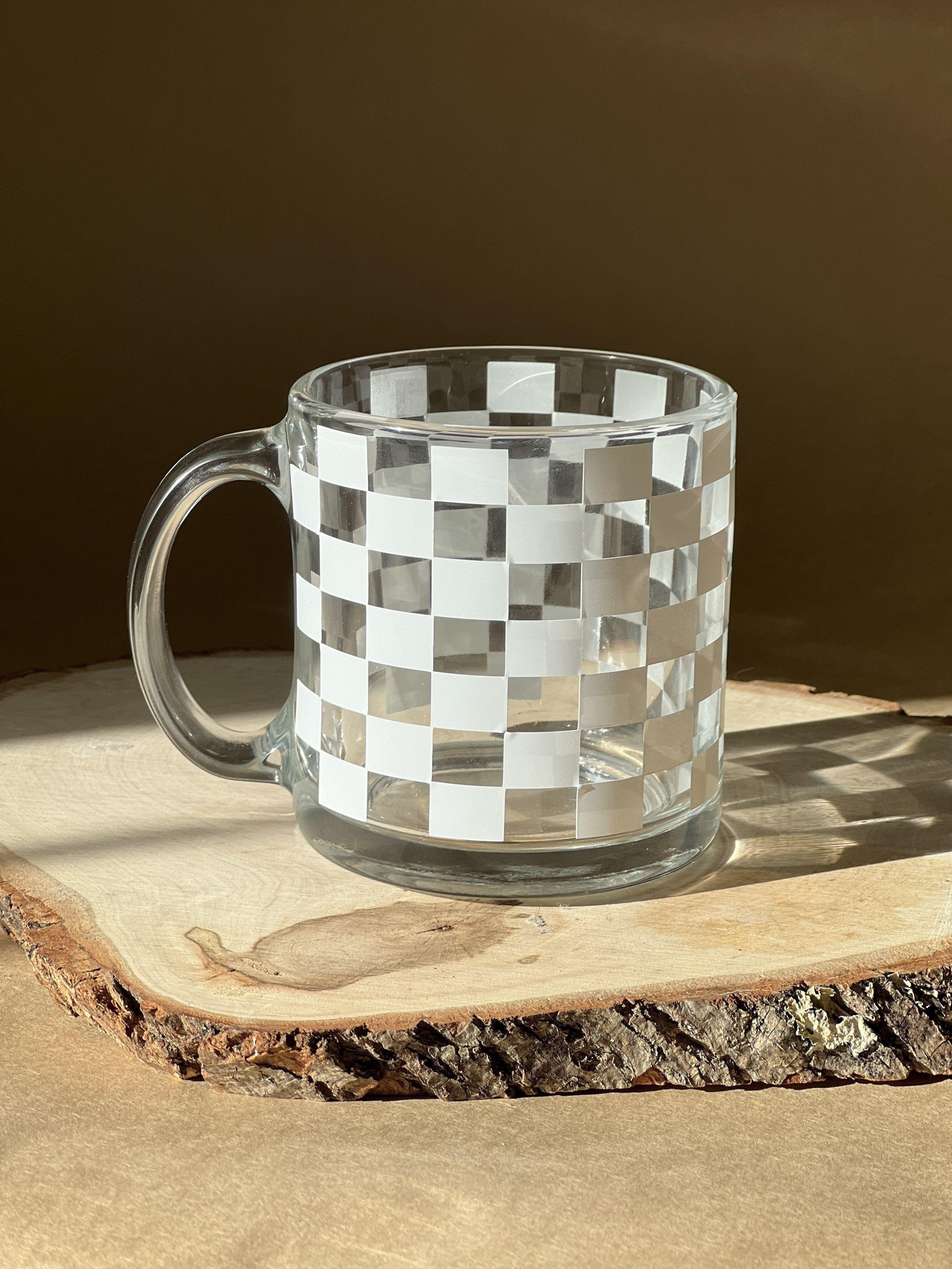glass-mug: (108, 329, 755, 903)
